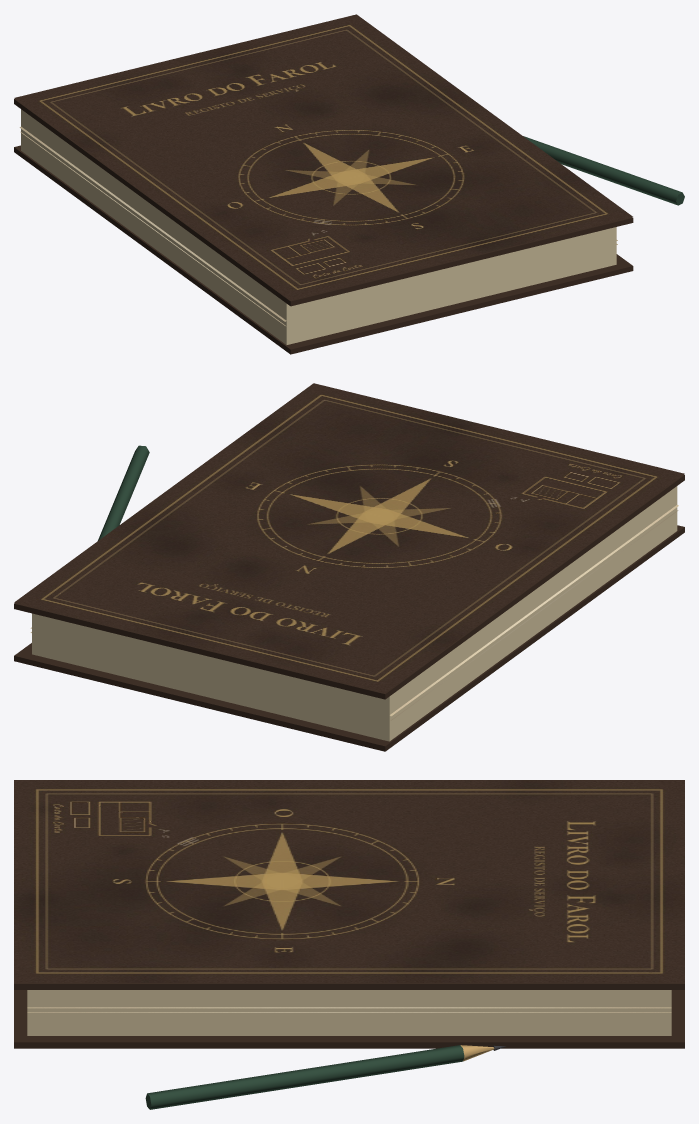
File: livro_do_farol_v2.glb
3 views of the same model, one above another, from view 1: azimuth 30°, elevation 25°; view 2: azimuth 150°, elevation 25°; view 3: azimuth 270°, elevation 25° (orthographic). The views are drawn at different scales.
Parts seen in each view (by area): view 1: capa_arte, miolo_direito, miolo_esquerdo, capa_tras, capa_frente, lapis_corpo, folha_direita; view 2: capa_arte, miolo_direito, miolo_esquerdo, capa_tras, capa_frente, lapis_corpo, folha_direita; view 3: capa_arte, miolo_direito, miolo_esquerdo, capa_tras, lapis_corpo, capa_frente, folha_direita, folha_esquerda.
Part boxes in pixels (bbox=[...]): capa_arte: bbox=[14, 14, 632, 300]; miolo_direito: bbox=[21, 129, 616, 344]; miolo_esquerdo: bbox=[21, 109, 616, 323]; capa_tras: bbox=[14, 145, 633, 354]; capa_frente: bbox=[14, 99, 633, 306]; lapis_corpo: bbox=[523, 136, 684, 205]; folha_direita: bbox=[19, 126, 617, 321]; capa_arte: bbox=[14, 383, 684, 692]; miolo_direito: bbox=[32, 508, 677, 741]; miolo_esquerdo: bbox=[32, 486, 677, 717]; capa_tras: bbox=[14, 525, 684, 751]; capa_frente: bbox=[14, 474, 684, 699]; lapis_corpo: bbox=[98, 445, 149, 540]; folha_direita: bbox=[30, 504, 678, 716]; capa_arte: bbox=[14, 780, 684, 982]; miolo_direito: bbox=[27, 1009, 671, 1035]; miolo_esquerdo: bbox=[27, 990, 671, 1009]; capa_tras: bbox=[14, 990, 684, 1048]; lapis_corpo: bbox=[145, 1045, 464, 1109]; capa_frente: bbox=[14, 983, 684, 989]; folha_direita: bbox=[27, 1007, 671, 1008]; folha_esquerda: bbox=[27, 1012, 671, 1012].
Bounding box in the file's own units: 0.2843 × 0.0326 × 0.302.
Materials: 8 (3 with a texture image).
